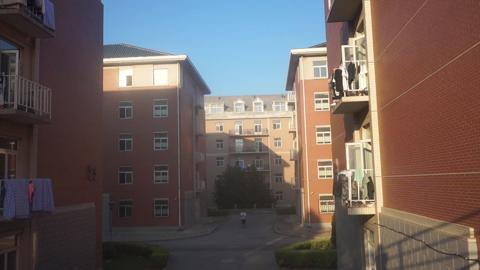UAV: (202, 132, 210, 138)
